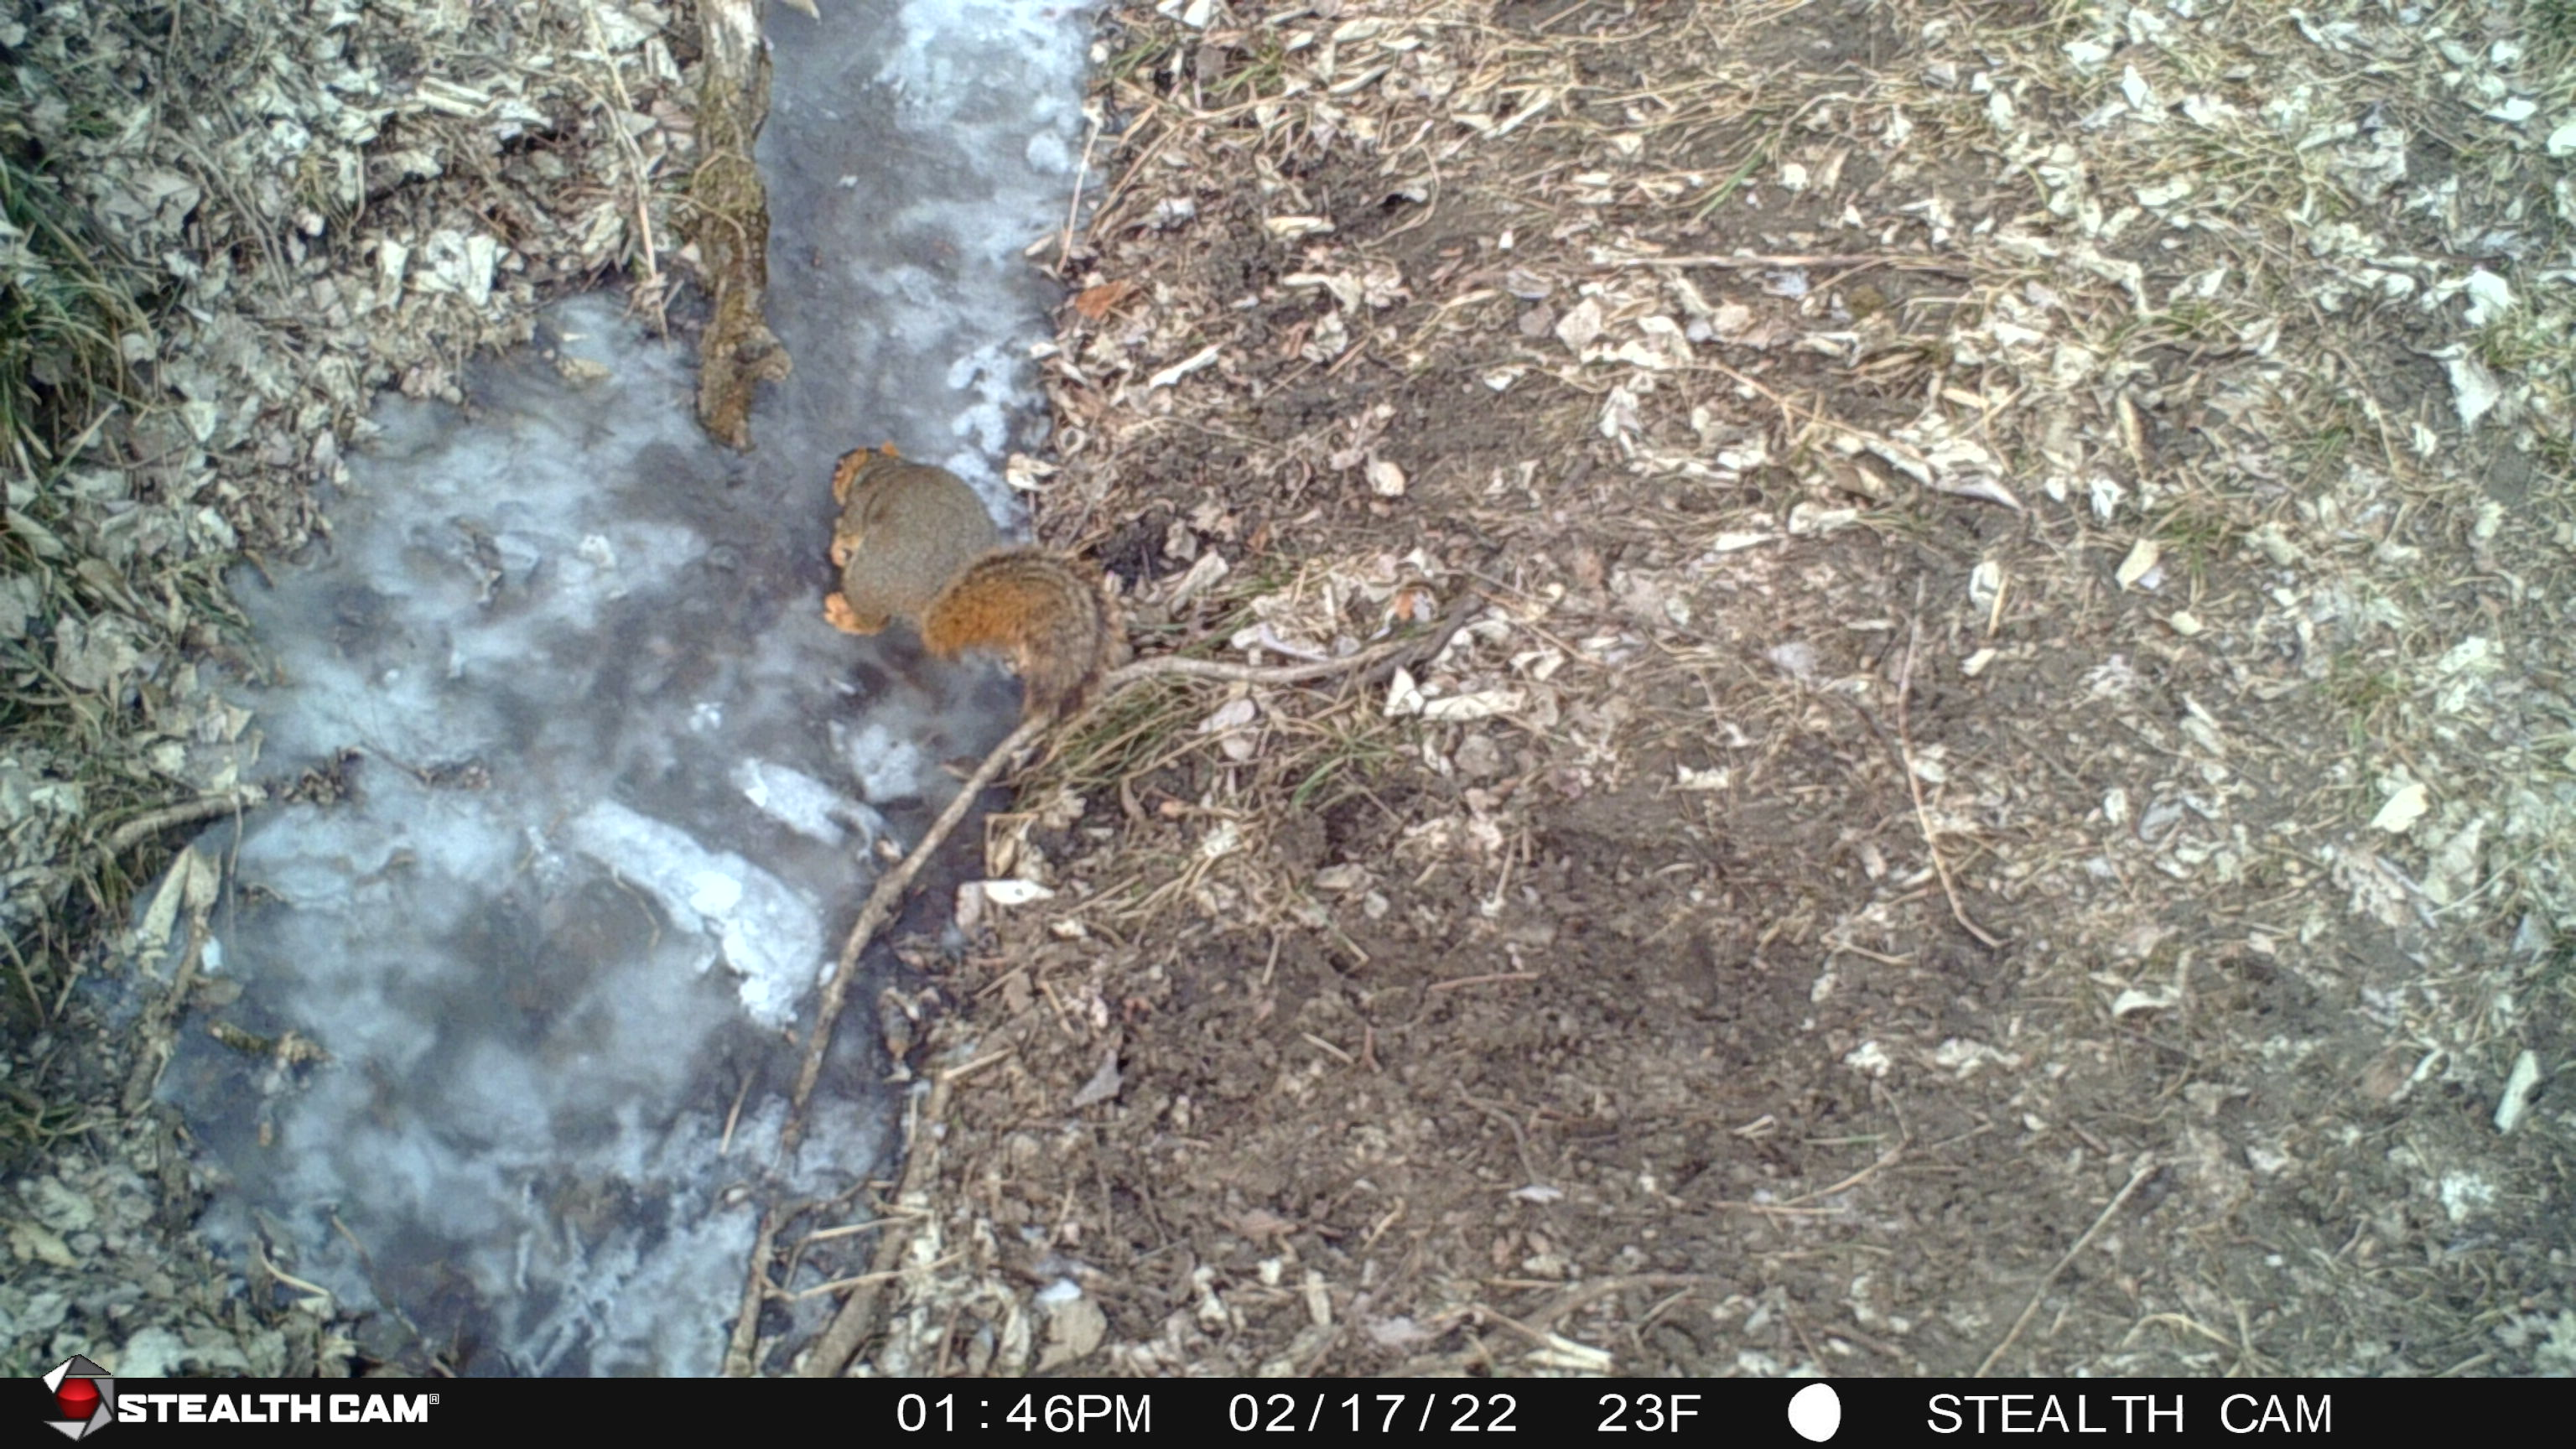Squirrel: (826, 444, 1095, 699)
